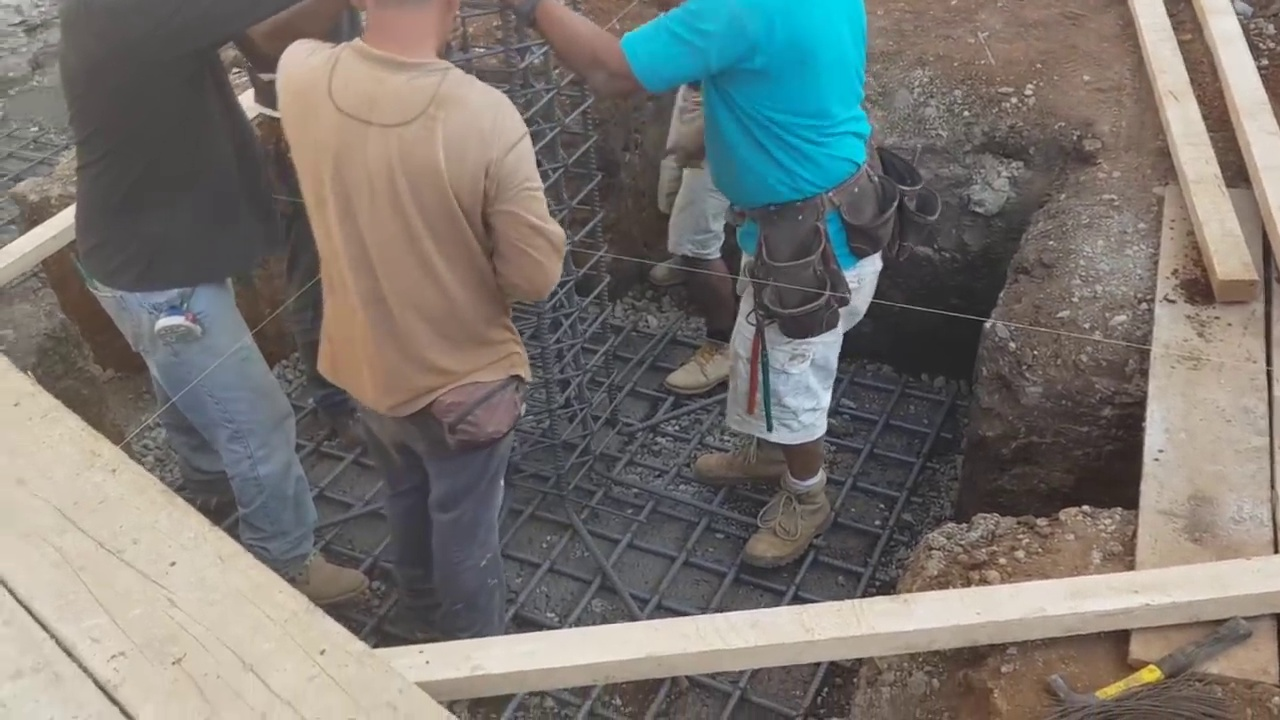person: (524, 3, 878, 585), (55, 3, 367, 606), (274, 0, 562, 639), (648, 63, 741, 406)
